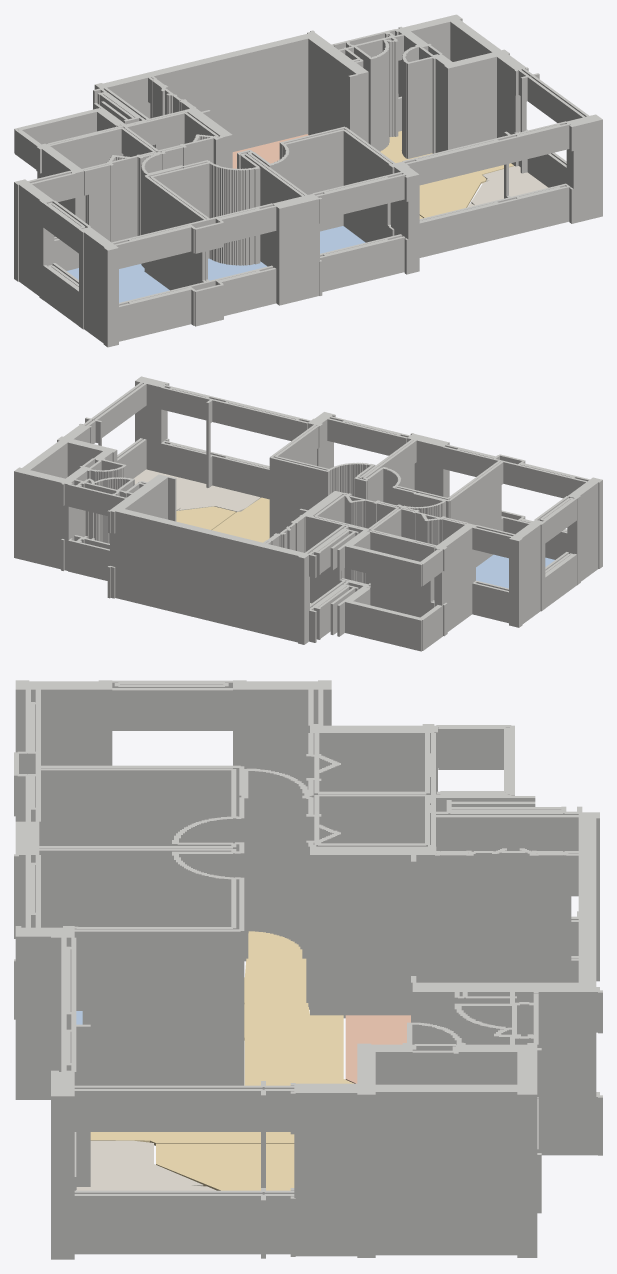
3 renders of one model, top to bottom at view 1: azimuth 30°, elevation 25°; view 2: azimuth 150°, elevation 25°; view 3: azimuth 270°, elevation 25°, orthographic. The views are drawn at different scales.
Parts seen in each view (by area): view 1: walls, room:living:3, room:other:0, room:bedroom:11, room:bedroom:1, room:bedroom:6, room:kitchen:5; view 2: walls, room:other:0, room:living:2, room:living:3, room:bedroom:11; view 3: walls, room:living:2, room:living:3, room:other:0, room:kitchen:5.
Part boxes in pixels (left/top/right/bottom): walls: left=14, top=14, right=602, bottom=347; room:living:3: left=380, top=131, right=513, bottom=217; room:other:0: left=468, top=166, right=548, bottom=207; room:bedroom:11: left=67, top=264, right=169, bottom=302; room:bedroom:1: left=320, top=226, right=365, bottom=253; room:bedroom:6: left=208, top=258, right=267, bottom=280; room:kitchen:5: left=232, top=134, right=308, bottom=168; walls: left=14, top=376, right=602, bottom=651; room:other:0: left=133, top=469, right=260, bottom=512; room:living:2: left=212, top=497, right=269, bottom=542; room:living:3: left=176, top=506, right=235, bottom=530; room:bedroom:11: left=476, top=554, right=554, bottom=588; walls: left=14, top=680, right=602, bottom=1259; room:living:2: left=90, top=931, right=353, bottom=1145; room:living:3: left=156, top=1144, right=294, bottom=1190; room:other:0: left=76, top=1140, right=216, bottom=1190; room:kitchen:5: left=345, top=1015, right=410, bottom=1083.
Size of the model in its own units: 15.3 by 2.8 by 9.16.
